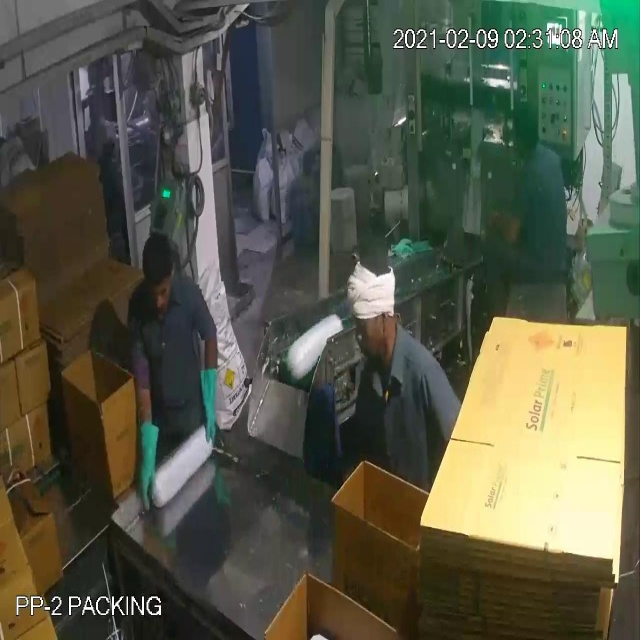Guantes: (184, 350, 232, 452), (134, 412, 169, 520)
Sin_guantes: (485, 194, 526, 254)
